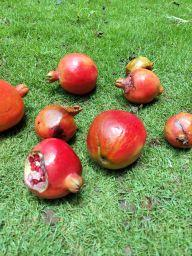pomegranate: (23, 139, 84, 200), (87, 110, 147, 171), (46, 51, 98, 94), (34, 103, 82, 143), (116, 69, 163, 104), (0, 79, 29, 133), (164, 112, 192, 149), (125, 56, 154, 74)
